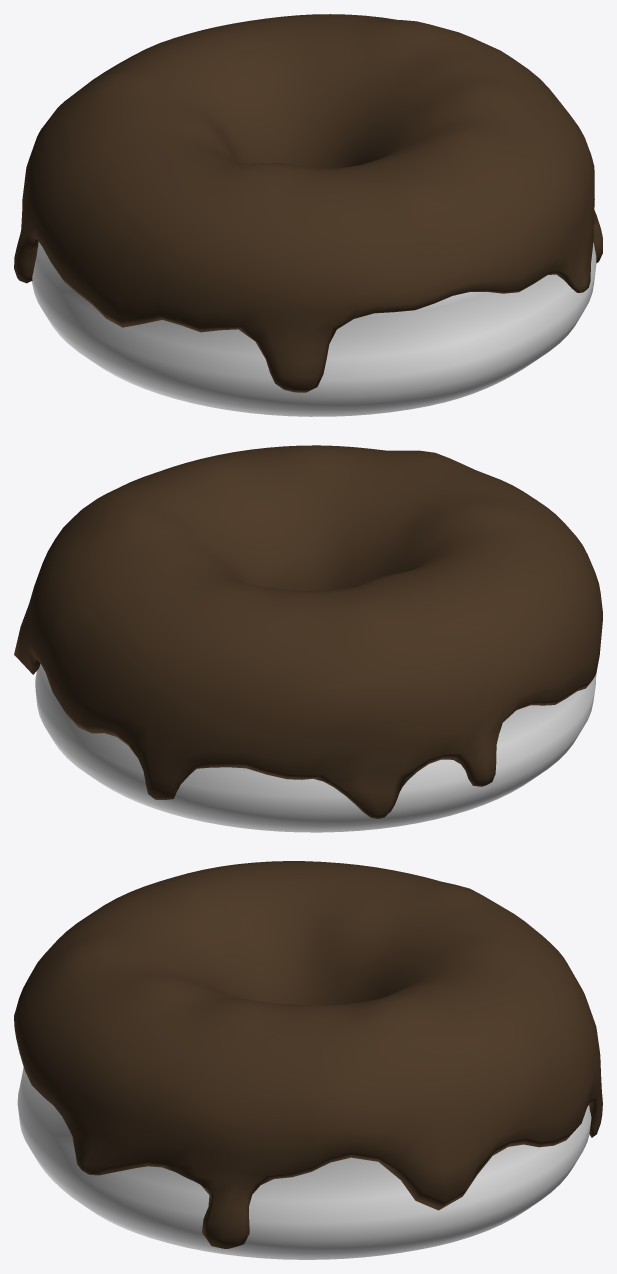
Rendered from Donut.glb.
3 renders of one model, top to bottom at view 1: azimuth 30°, elevation 25°; view 2: azimuth 150°, elevation 25°; view 3: azimuth 270°, elevation 25°, orthographic. The views are drawn at different scales.
Parts seen in each view (by area): view 1: icing, Donut; view 2: icing, Donut; view 3: icing, Donut.
Part boxes in pixels (box(x1,y1,x2,y2)): icing: box(14, 14, 602, 392); Donut: box(32, 242, 596, 416); icing: box(14, 445, 602, 818); Donut: box(35, 664, 596, 832); icing: box(14, 861, 602, 1248); Donut: box(17, 1067, 591, 1259).
Size of the model in its own units: 0.123 by 0.0552 by 0.1252.
